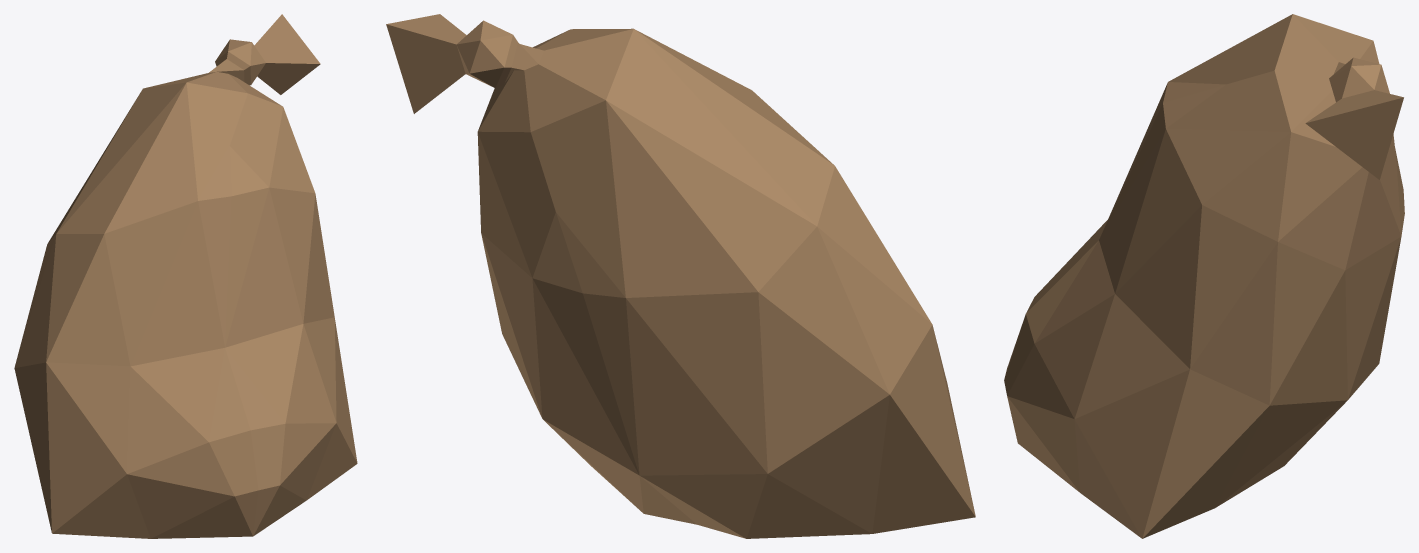
The model's file is sack_2.fbx.
3 views of the same model, side by side, from view 1: azimuth 30°, elevation 25°; view 2: azimuth 150°, elevation 25°; view 3: azimuth 270°, elevation 25° (orthographic). The views are drawn at different scales.
Visible parts, largest first — view 1: sack.002; view 2: sack.002; view 3: sack.002.
Part boxes in pixels (x1,y1,x2,y2): sack.002: (14, 14, 357, 538); sack.002: (386, 14, 975, 538); sack.002: (1004, 14, 1404, 538).
Bounding box in the file's own units: 247 × 261 × 205.
